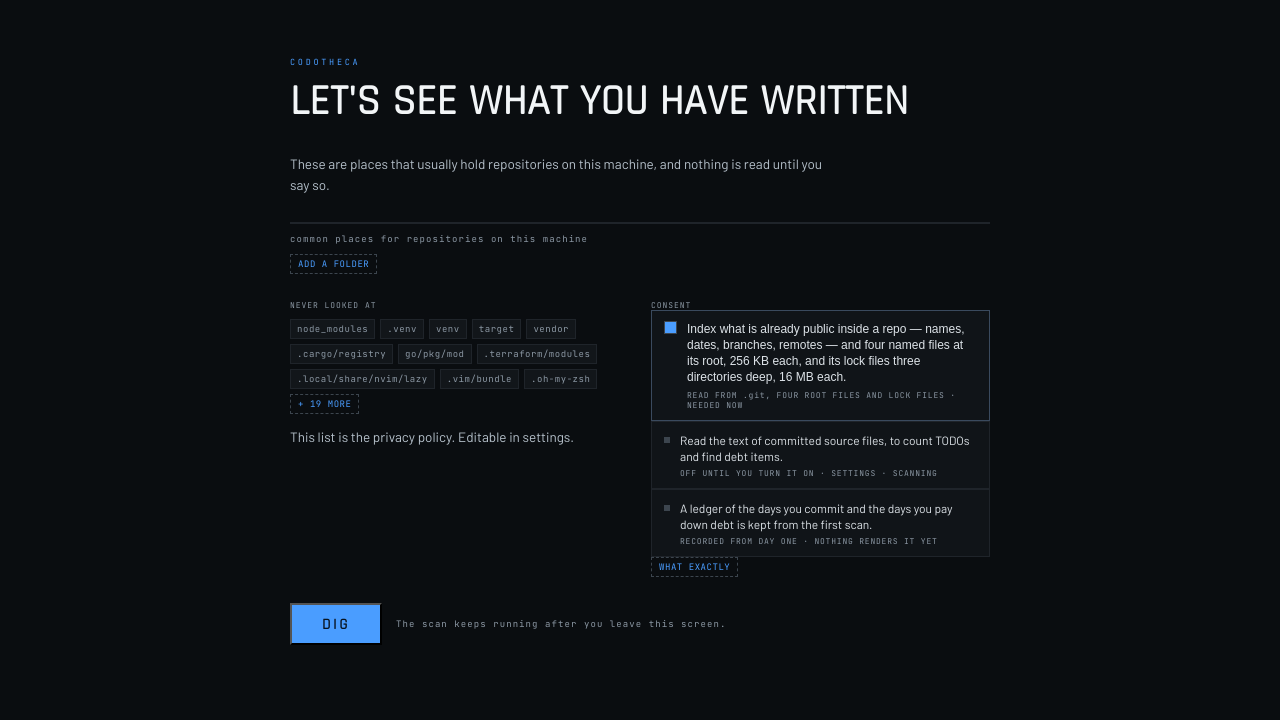
the subscription is released when the gate stops needing it
This screenshot has width=1280, height=720.
Check: the heading "LET'S SEE WHAT YOU HAVE WRITTEN" is shown, box [290,80,990,124]
Click the button "DIG": (336, 624) [290,603,382,645]
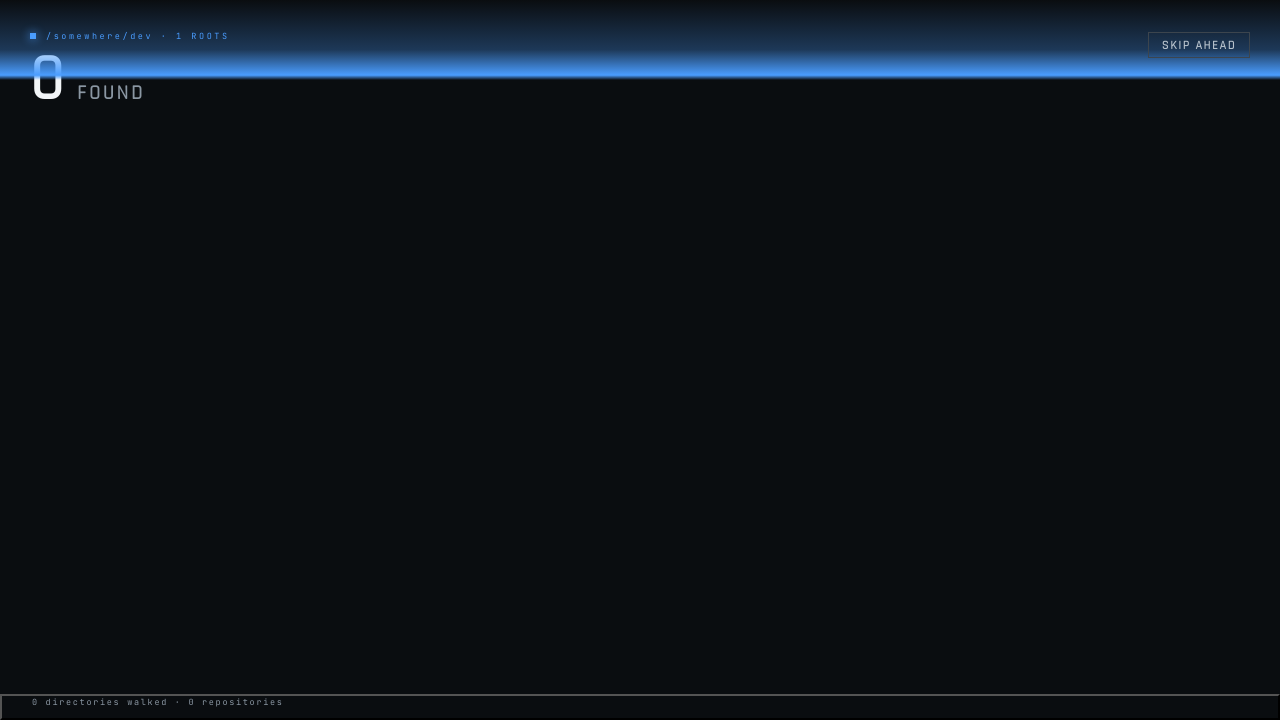
Check: the button "SKIP AHEAD" is shown, box [1148,32,1250,58]
